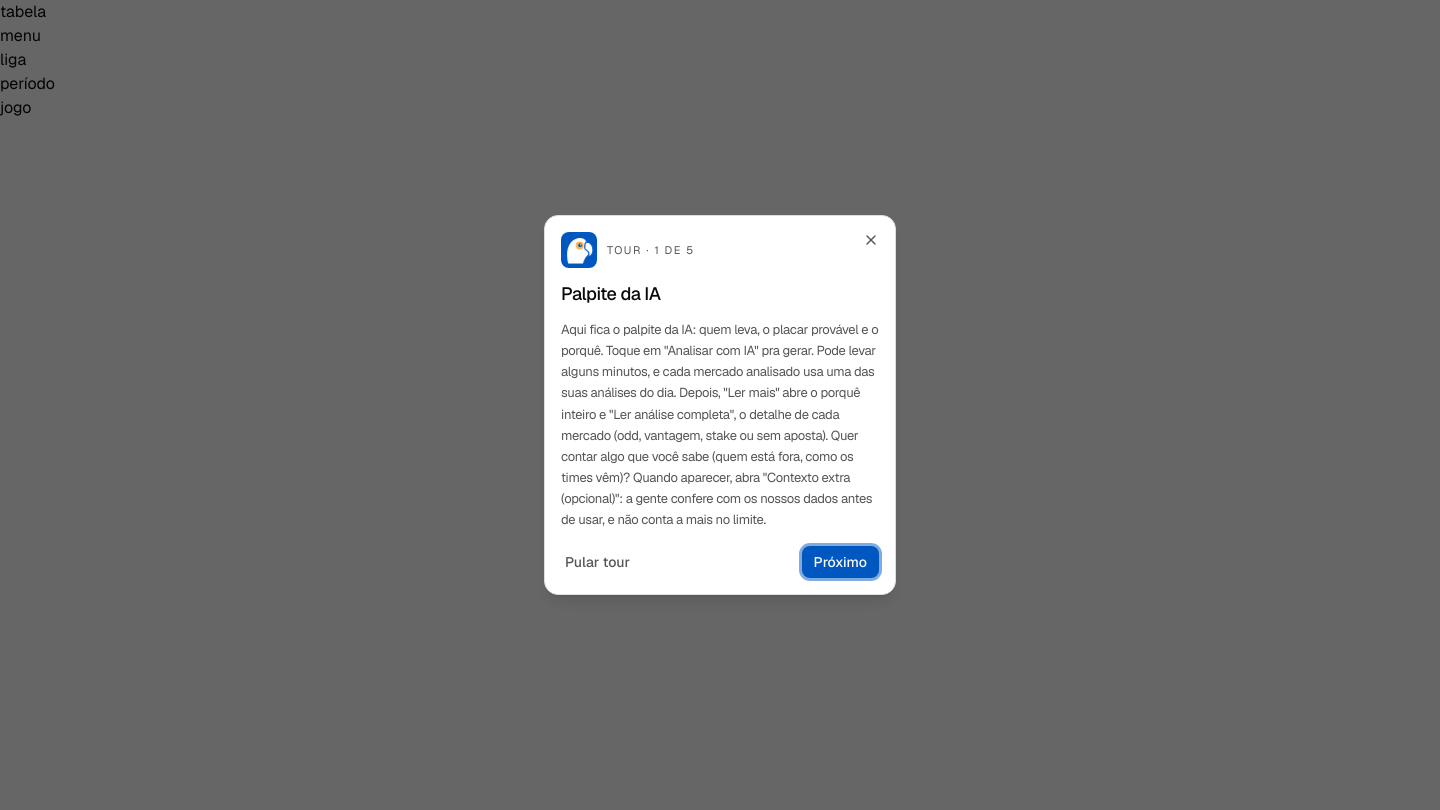
Test: GuidedTour › passos com aba (#576) › sem ouvinte, o passo com aba e alvo existente ainda conta no N de M
Check: the dialog shows "1 de 5", box x1=544 y1=215 x2=896 y2=595
Click the button "Próximo". click: (840, 562)
box: x1=802 y1=546 x2=879 y2=578
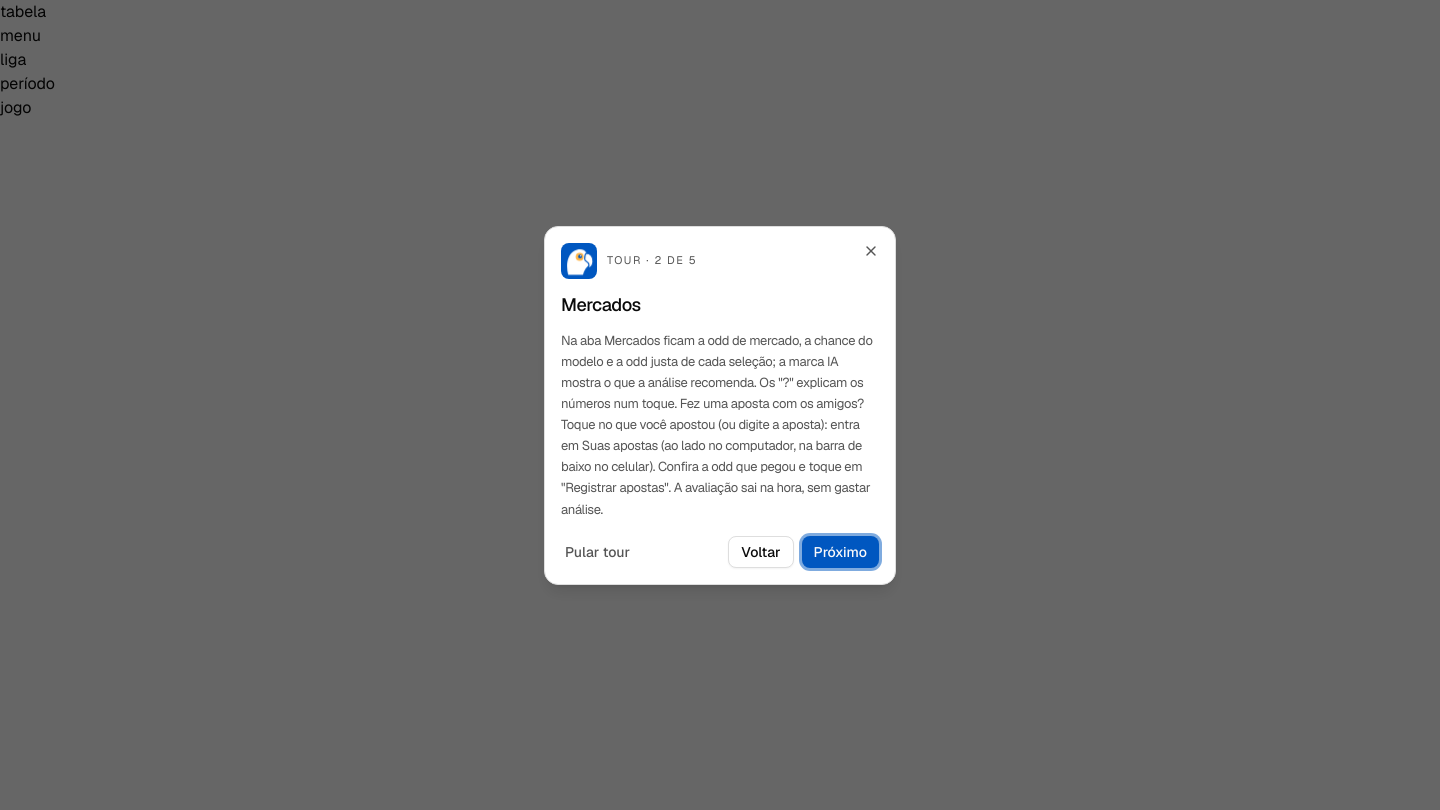
Click the button "Próximo". click: (840, 552)
box: x1=802 y1=536 x2=879 y2=568
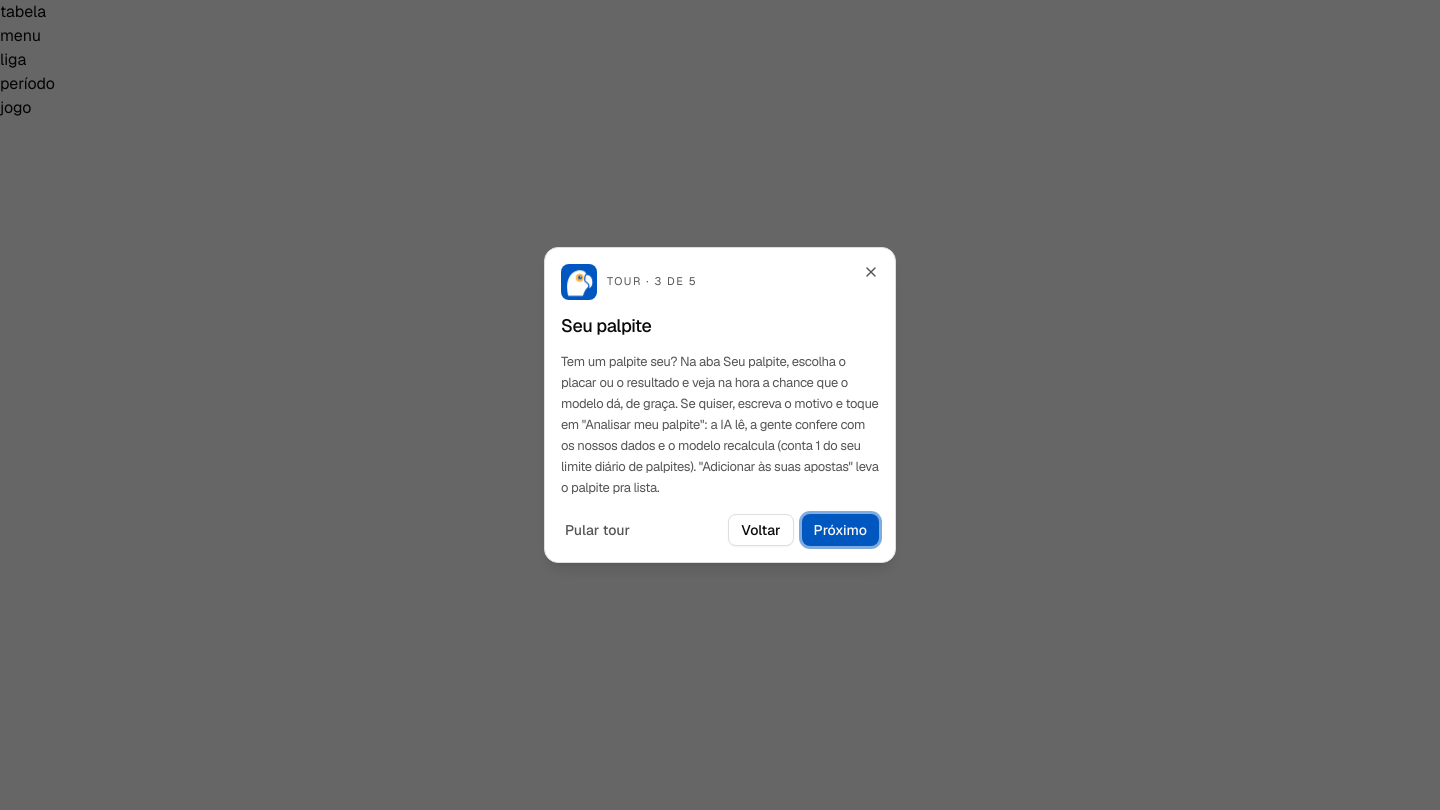
Click the button "Próximo". click: (840, 530)
box: x1=802 y1=514 x2=879 y2=546
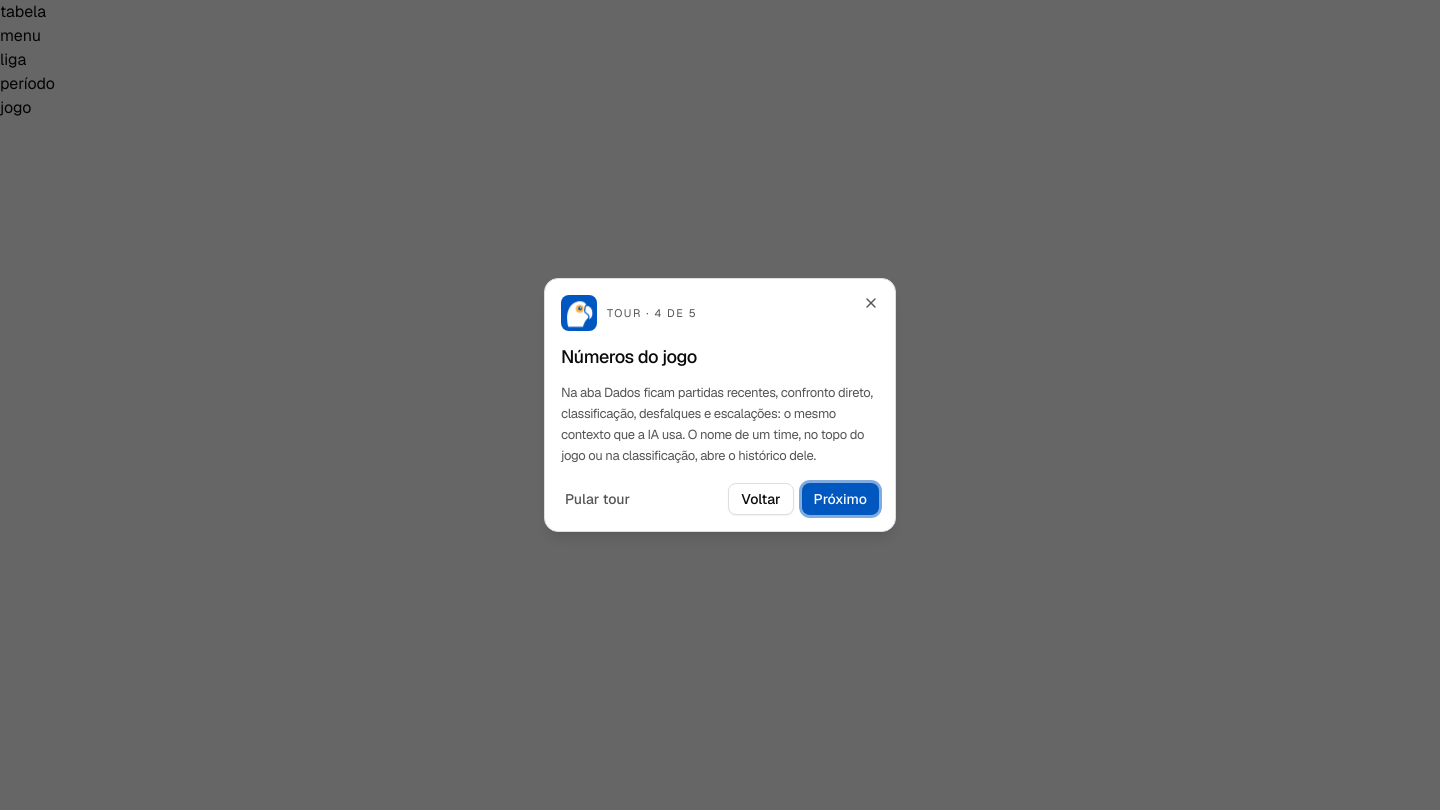
Check: the dialog shows "Números do jogo", box x1=561 y1=345 x2=697 y2=368
Check: the dialog shows "4 de 5", box x1=544 y1=278 x2=896 y2=532
